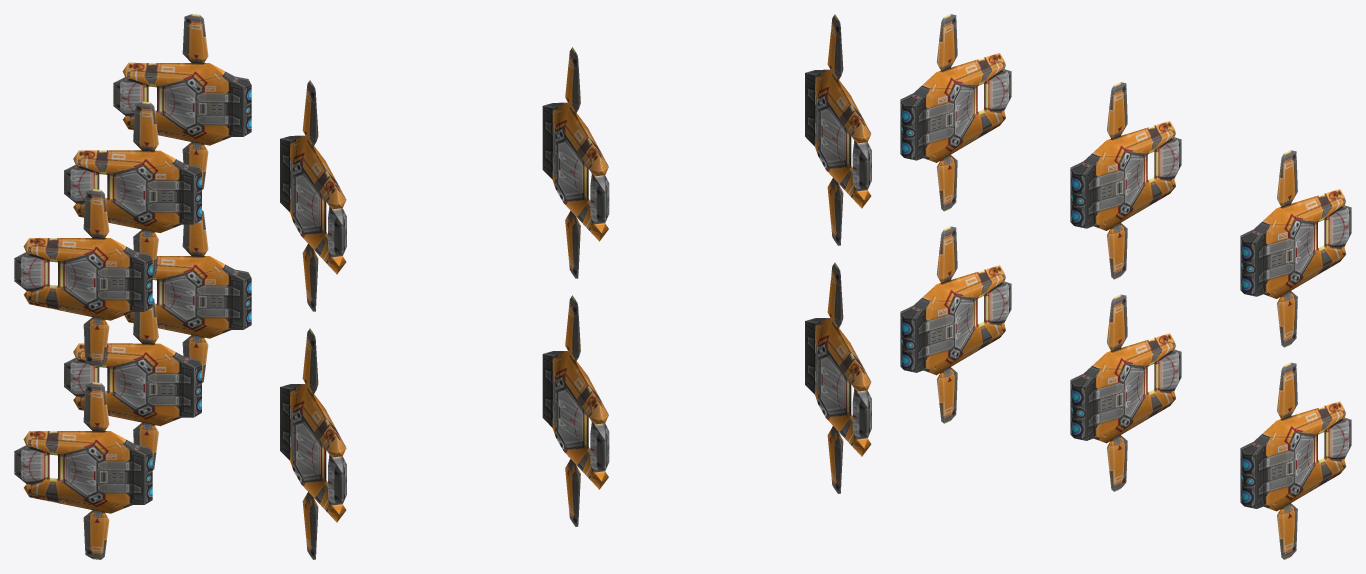
The model's file is tut_drones.glb.
3 renders of one model, left to right at view 1: azimuth 30°, elevation 25°; view 2: azimuth 150°, elevation 25°; view 3: azimuth 270°, elevation 25°, orthographic. The views are drawn at different scales.
Visible parts, largest first — view 1: hgn_target_drone_01_LOD0 (×6); view 2: hgn_target_drone_01_LOD0 (×6); view 3: hgn_target_drone_01_LOD0 (×6).
Part boxes in pixels (x1=…): hgn_target_drone_01_LOD0 (×6): x1=14, y1=14, x2=251, y2=559; hgn_target_drone_01_LOD0 (×6): x1=280, y1=14, x2=871, y2=559; hgn_target_drone_01_LOD0 (×6): x1=900, y1=14, x2=1351, y2=559.
Size of what is drawn, in the model's own units: 5.62 by 5.75 by 5.78.
Materials: 1 (1 with a texture image).
